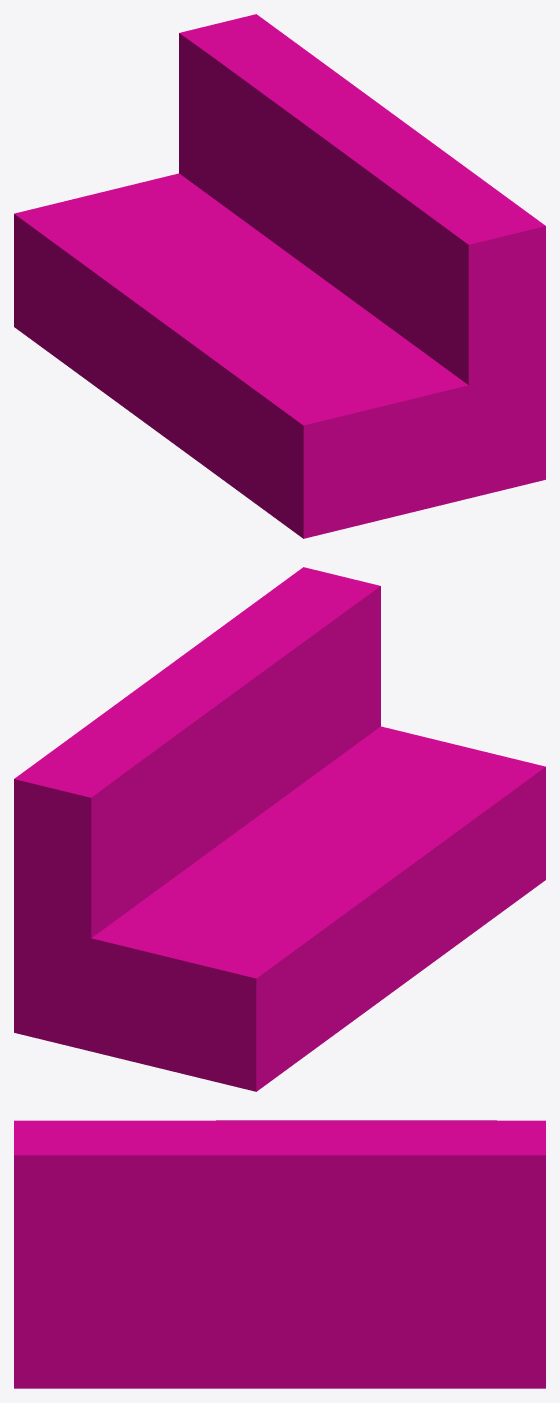
File: sillonrosa3.fbx
3 renders of one model, top to bottom at view 1: azimuth 30°, elevation 25°; view 2: azimuth 150°, elevation 25°; view 3: azimuth 270°, elevation 25°, orthographic. The views are drawn at different scales.
Parts seen in each view (by area): view 1: Cube.009; view 2: Cube.009; view 3: Cube.009.
Boxes of the visible parts, left/top/right/bottom form: Cube.009: left=14, top=14, right=545, bottom=538; Cube.009: left=14, top=567, right=545, bottom=1091; Cube.009: left=14, top=1120, right=545, bottom=1388.
Bounding box in the file's own units: 723 × 724 × 1495.
